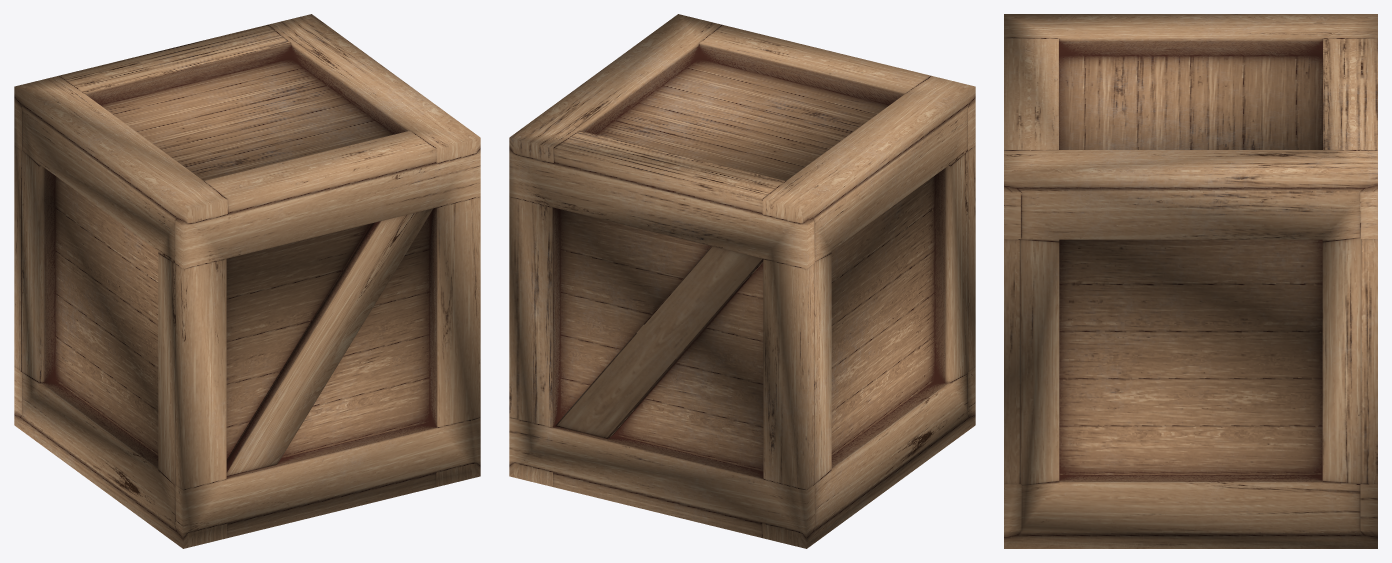
Rendered from WoodenCrate.fbx.
The picture shows the model from 3 angles, left to right: view 1: azimuth 30°, elevation 25°; view 2: azimuth 150°, elevation 25°; view 3: azimuth 270°, elevation 25°; orthographic projection. The views are drawn at different scales.
Visible parts, largest first — view 1: WoodenCrate; view 2: WoodenCrate; view 3: WoodenCrate.
Part boxes in pixels (x1,y1,x2,y2): WoodenCrate: (14,14,480,548); WoodenCrate: (509,14,975,548); WoodenCrate: (1004,14,1377,548).
Size of the model in its own units: 0.5082 by 0.5527 by 0.5.
